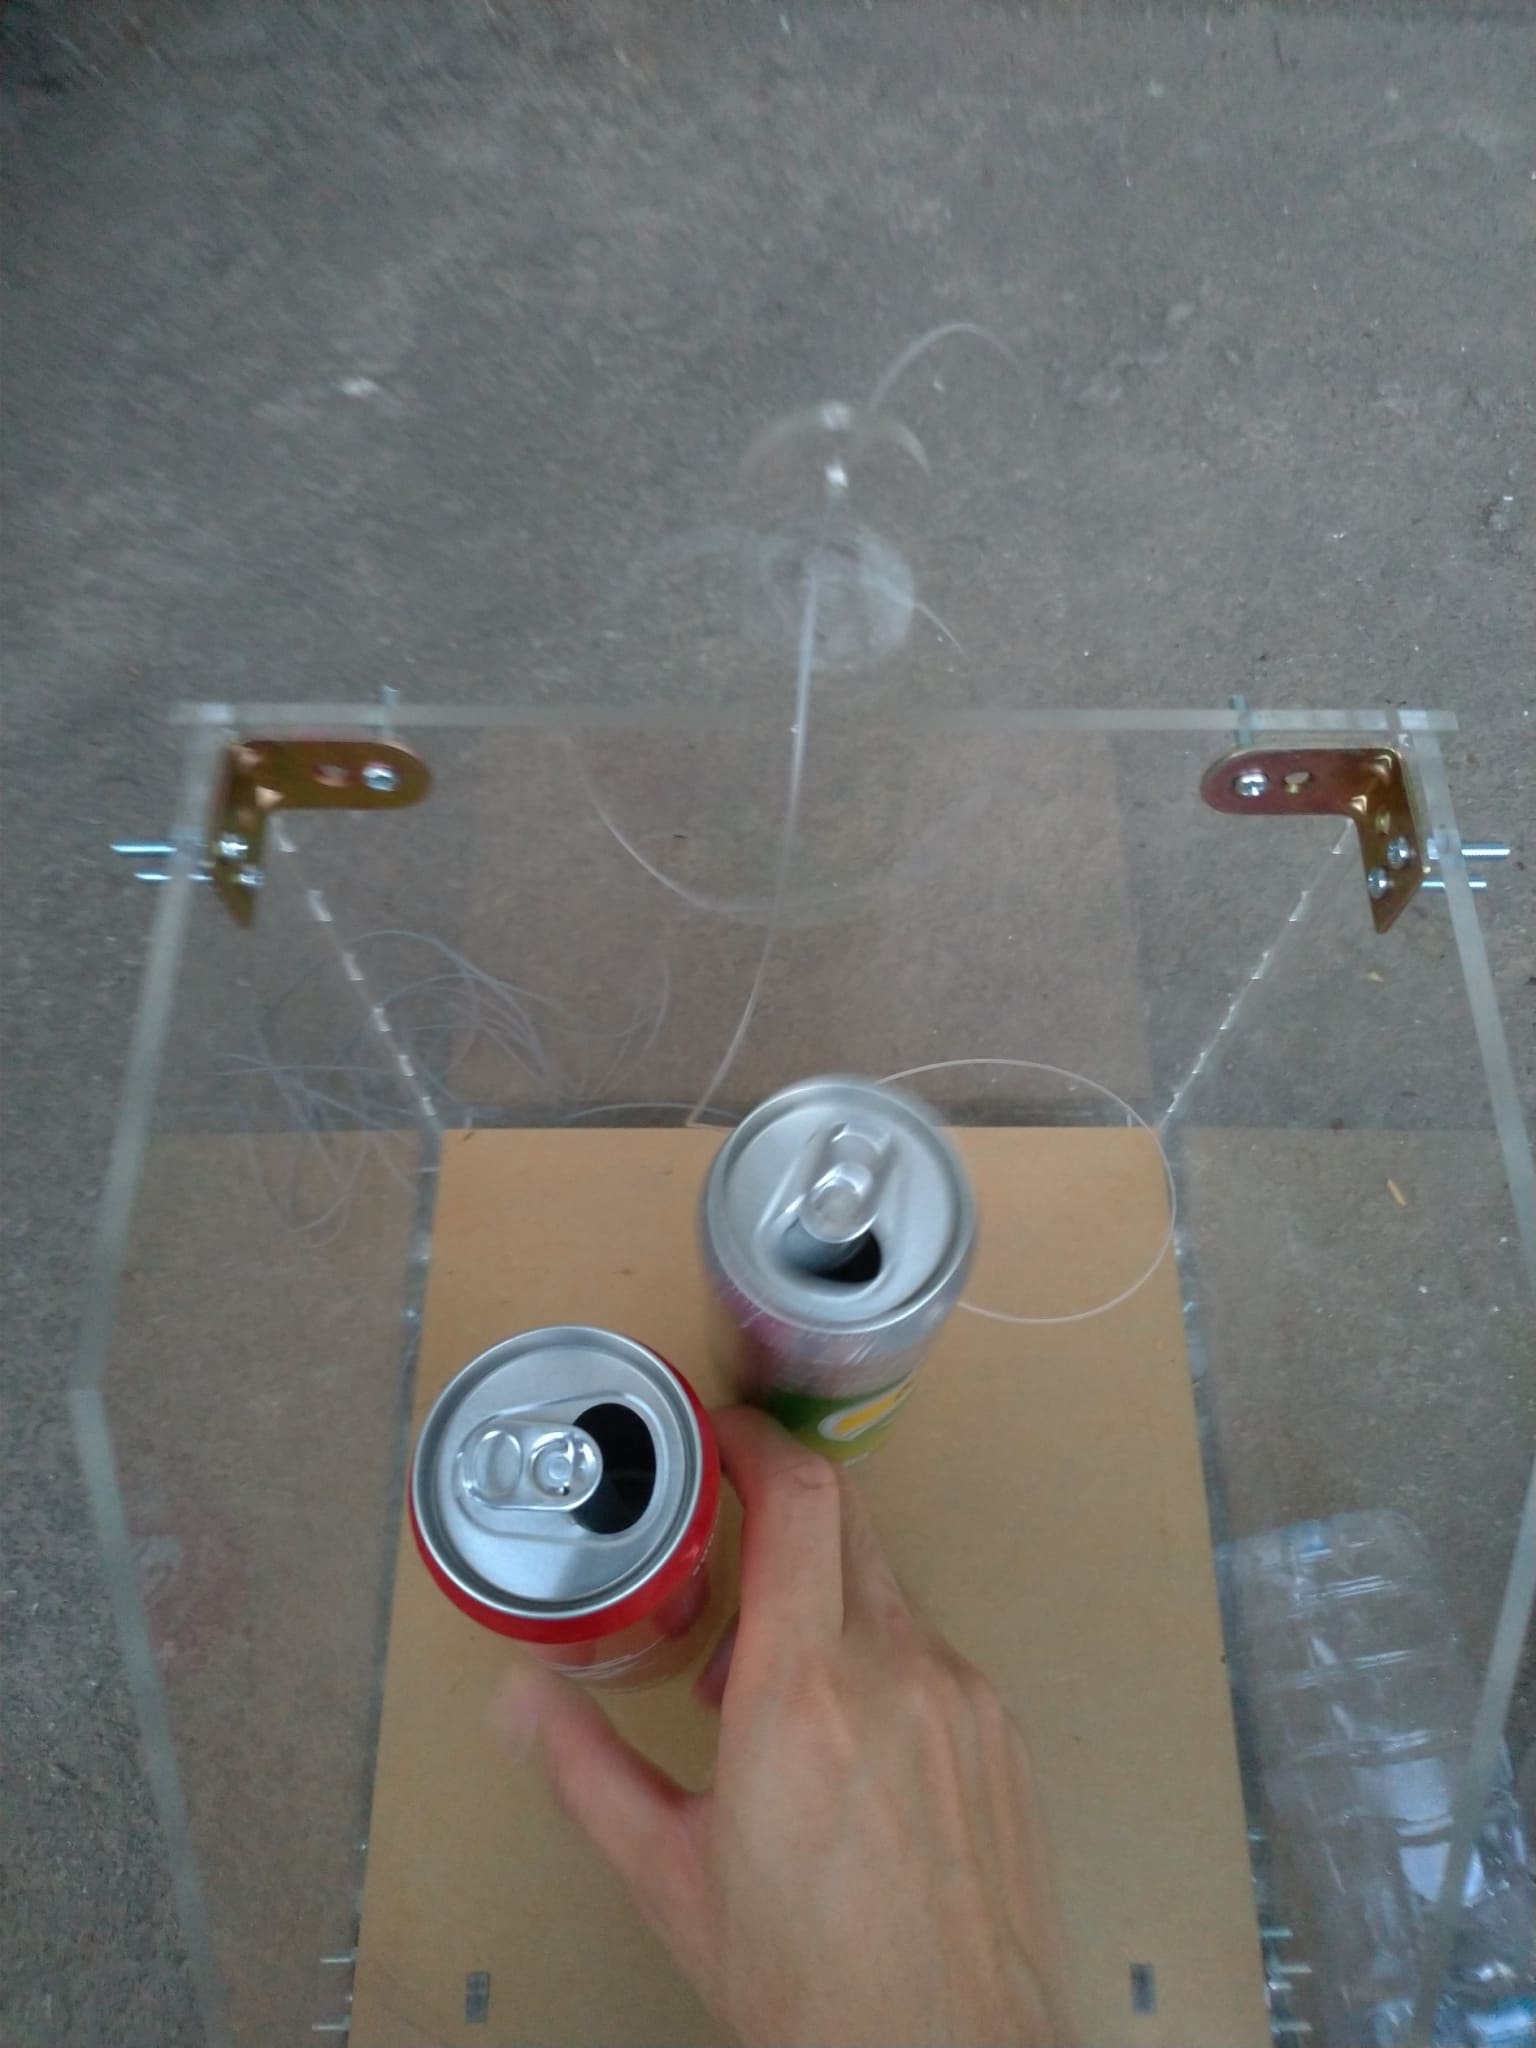AlCan: (407, 1319, 749, 1713), (691, 1071, 978, 1448)
PlasticBottle: (1207, 1496, 1533, 2032)
